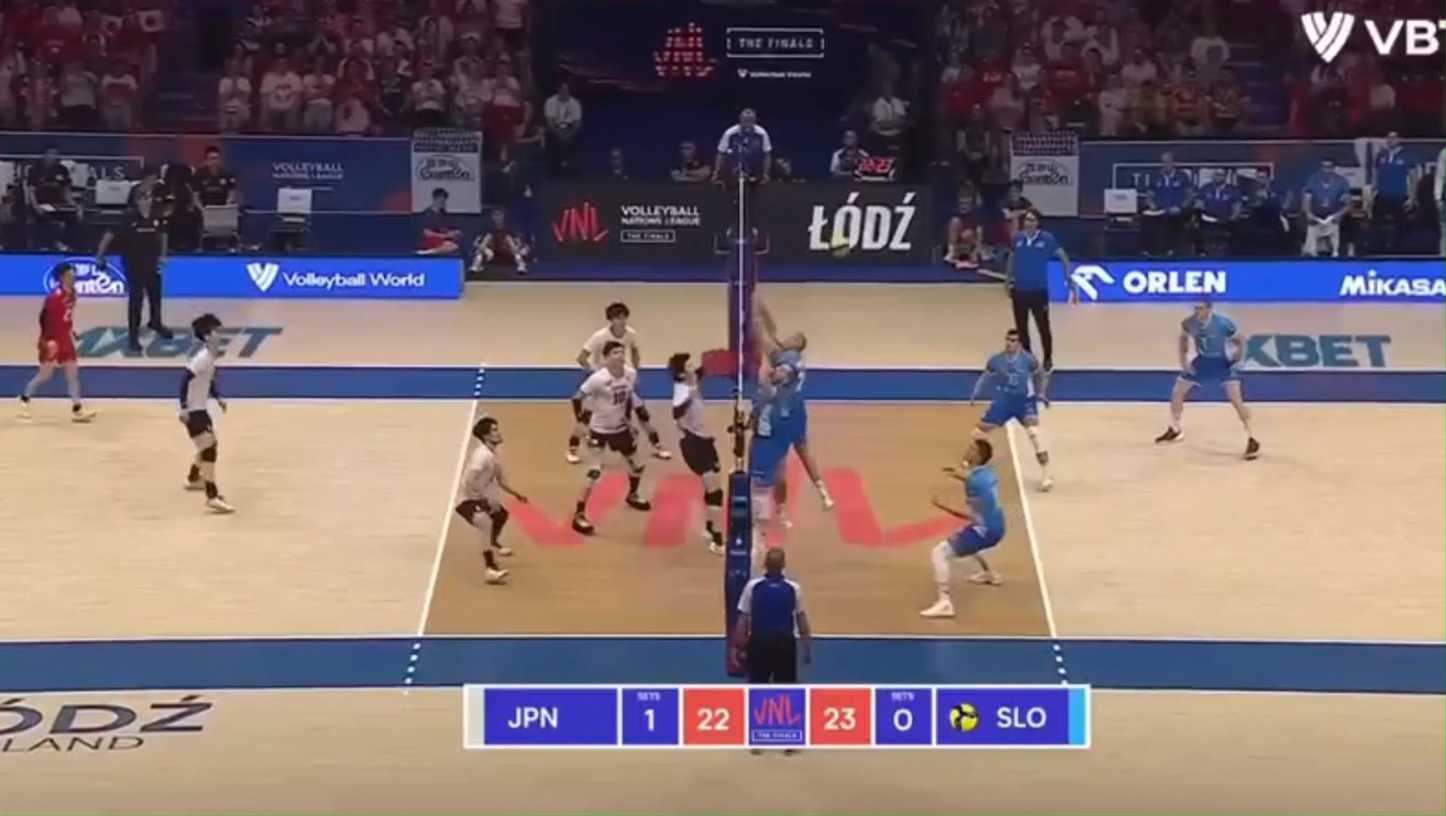ball: (830, 238, 849, 256)
player: (1155, 301, 1259, 459), (919, 438, 1006, 619), (972, 329, 1053, 490), (756, 301, 823, 490), (749, 348, 807, 552)
player 1: (570, 341, 650, 535), (577, 301, 671, 459), (454, 416, 527, 583), (19, 264, 93, 422), (668, 353, 723, 551), (179, 314, 233, 512)
referee: (96, 175, 172, 351), (734, 548, 811, 684), (1006, 211, 1068, 369), (713, 109, 772, 254)
